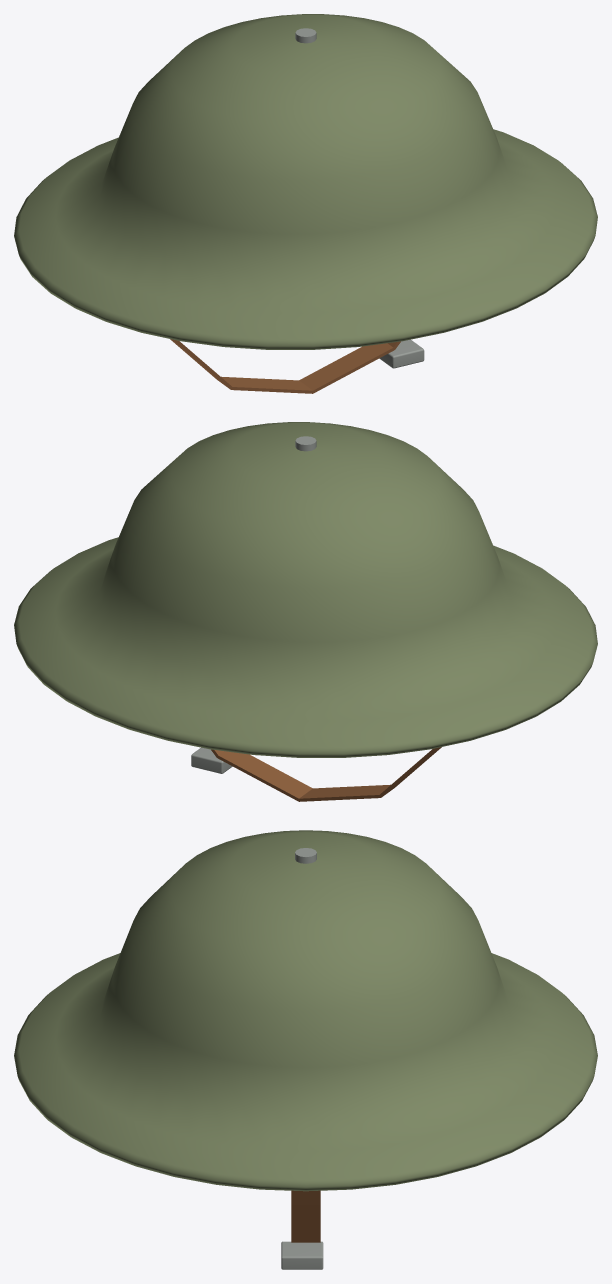
Rendered from m1917_helmet_1917_web.glb.
3 renders of one model, top to bottom at view 1: azimuth 30°, elevation 25°; view 2: azimuth 150°, elevation 25°; view 3: azimuth 270°, elevation 25°, orthographic. The views are drawn at different scales.
Parts seen in each view (by area): view 1: Olive_Painted_Metal, Walnut_Wood, Burnished_Steel; view 2: Olive_Painted_Metal, Walnut_Wood, Burnished_Steel; view 3: Olive_Painted_Metal, Walnut_Wood, Burnished_Steel.
Boxes of the visible parts, <box> form: Olive_Painted_Metal: <box>14,14,597,349</box>; Walnut_Wood: <box>170,339,400,393</box>; Burnished_Steel: <box>295,28,424,368</box>; Olive_Painted_Metal: <box>14,422,597,757</box>; Walnut_Wood: <box>211,747,441,801</box>; Burnished_Steel: <box>191,436,316,773</box>; Olive_Painted_Metal: <box>14,830,597,1191</box>; Walnut_Wood: <box>291,1190,320,1242</box>; Burnished_Steel: <box>281,848,323,1269</box>.
Bounding box in the file's own units: 0.338 × 0.224 × 0.3177.
